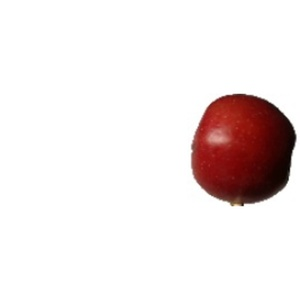maçã braeburn: (189, 92, 295, 201)
